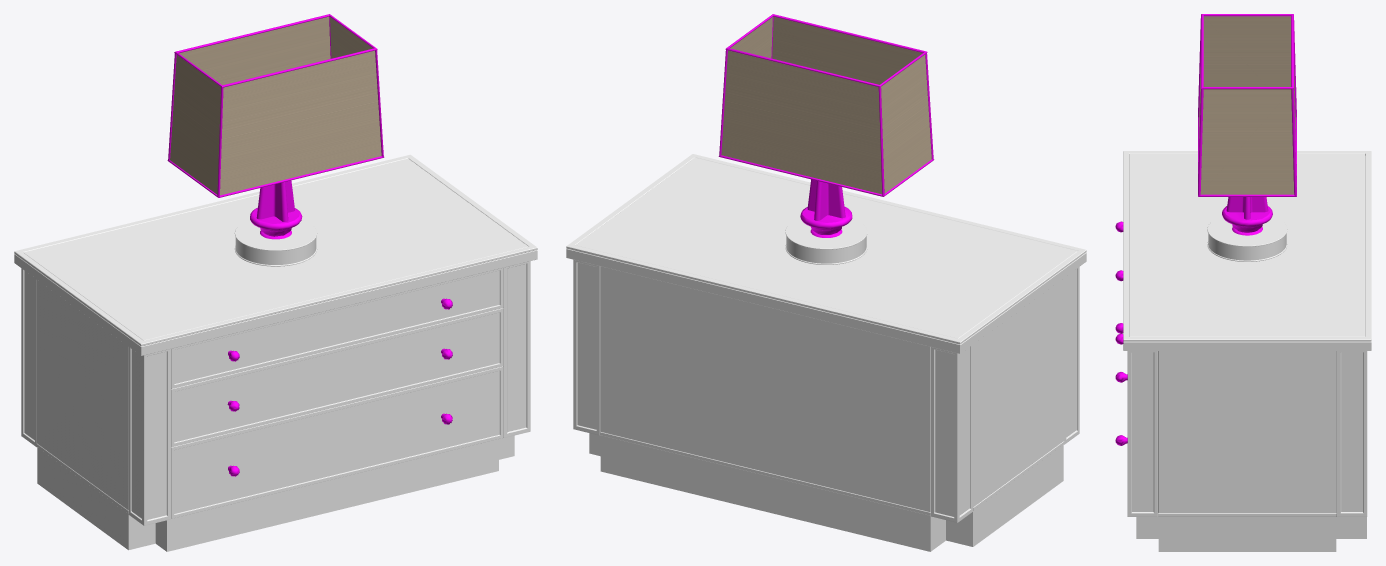
The model's file is Bedtab.glb.
The picture shows the model from 3 angles, left to right: view 1: azimuth 30°, elevation 25°; view 2: azimuth 150°, elevation 25°; view 3: azimuth 270°, elevation 25°; orthographic projection. The views are drawn at different scales.
Visible parts, largest first — view 1: export_sample_bedroom_BEDTab; view 2: export_sample_bedroom_BEDTab; view 3: export_sample_bedroom_BEDTab.
Part boxes in pixels (left/top/right/bottom): export_sample_bedroom_BEDTab: left=14, top=14, right=537, bottom=551; export_sample_bedroom_BEDTab: left=566, top=14, right=1086, bottom=551; export_sample_bedroom_BEDTab: left=1115, top=14, right=1371, bottom=551.
Bounding box in the file's own units: 0.9271 × 0.9378 × 0.5315.
7 materials, 1 textured.
